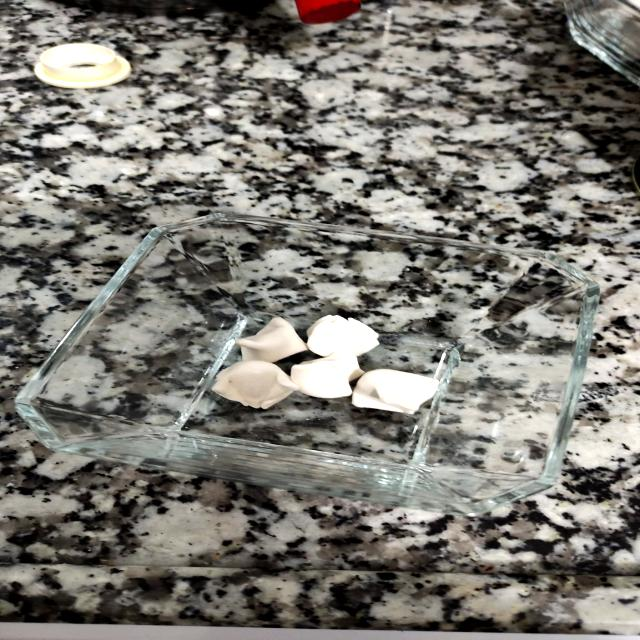turkish dumplings: (187, 298, 462, 429)
